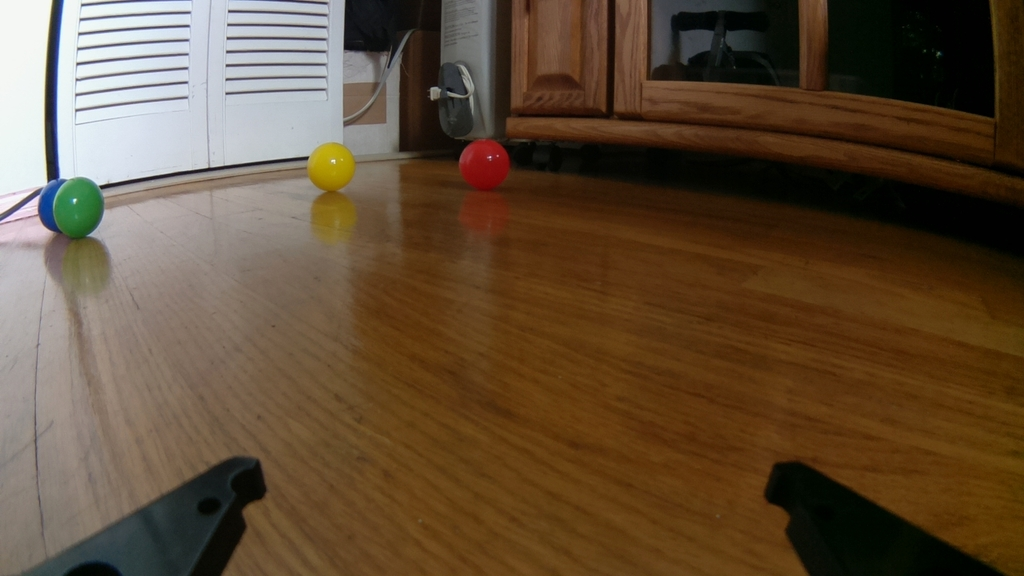ball: (37, 176, 60, 236)
